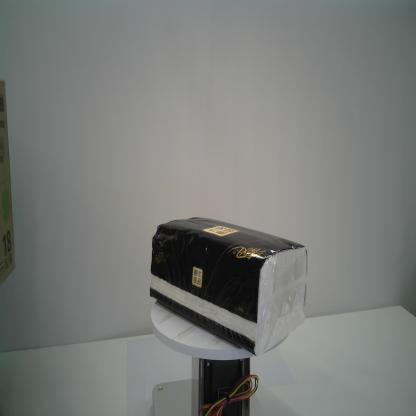Tissue: (148, 215, 308, 357)
